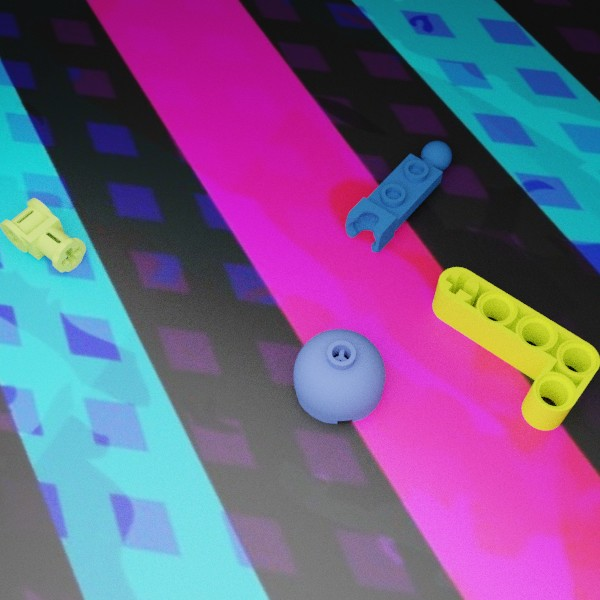lego: (432, 267, 599, 430), (345, 140, 452, 252), (293, 328, 385, 423), (0, 197, 85, 272)
